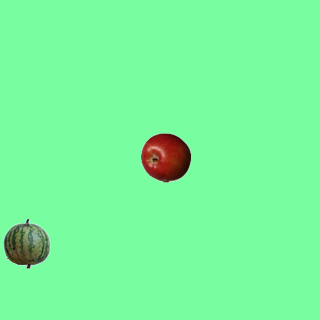Apple Braeburn: (140, 132, 190, 182)
Watermelon: (1, 218, 51, 268)
